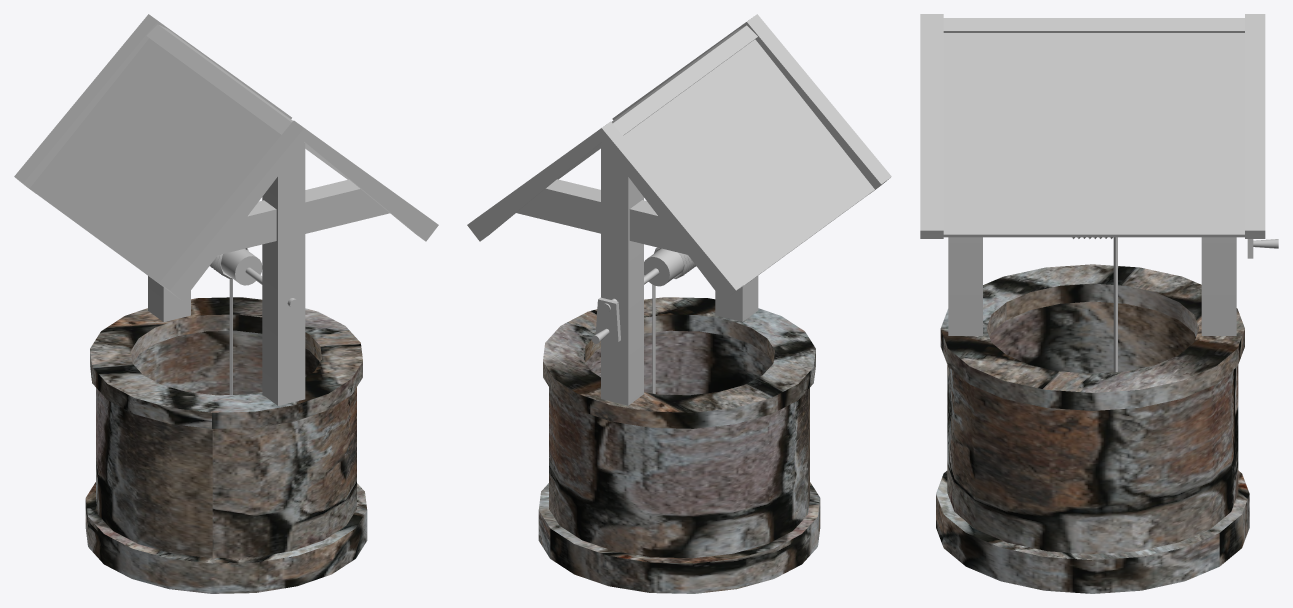
File: well.fbx
3 views of the same model, side by side, from view 1: azimuth 30°, elevation 25°; view 2: azimuth 150°, elevation 25°; view 3: azimuth 270°, elevation 25° (orthographic). The views are drawn at different scales.
Visible parts, largest first — view 1: well, well.002, well.001, well.003; view 2: well, well.002, well.001, well.003; view 3: well, well.002, well.003.
Part boxes in pixels (x1=…): well: x1=85, y1=297, x2=367, y2=593; well.002: x1=14, y1=14, x2=438, y2=405; well.001: x1=221, y1=249, x2=298, y2=308; well.003: x1=210, y1=248, x2=248, y2=394; well: x1=538, y1=297, x2=820, y2=593; well.002: x1=467, y1=14, x2=891, y2=405; well.001: x1=591, y1=248, x2=683, y2=343; well.003: x1=652, y1=247, x2=696, y2=393; well: x1=936, y1=264, x2=1249, y2=593; well.002: x1=920, y1=14, x2=1265, y2=335; well.003: x1=1072, y1=237, x2=1117, y2=372.
Size of the model in its own units: 1315 by 2164 by 1369.
